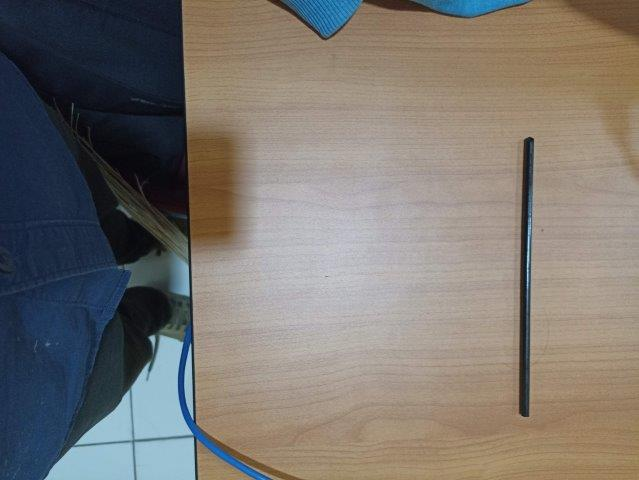sedotan: (520, 138, 534, 416)
